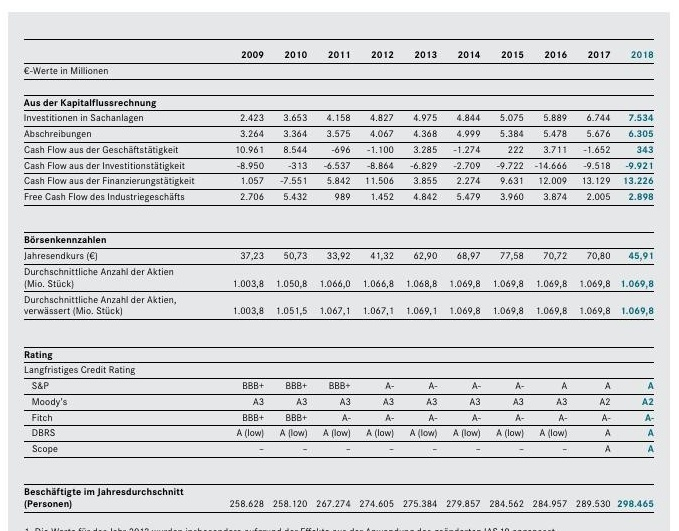table: (0, 0, 679, 531)
